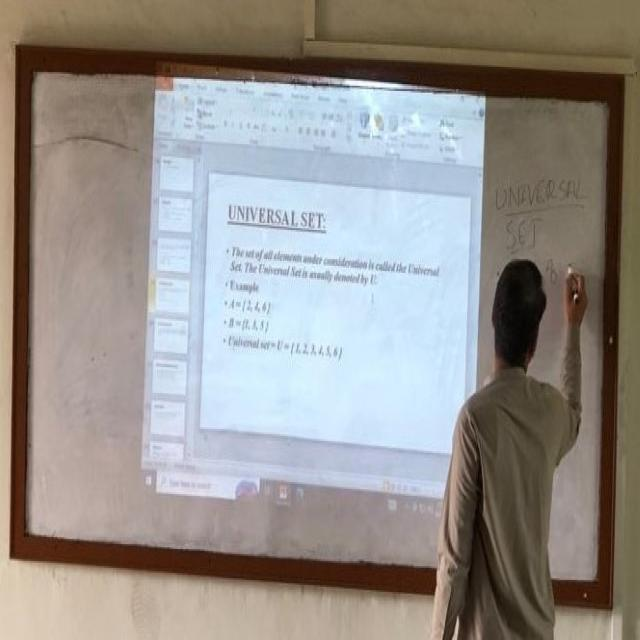Instructor: (452, 251, 578, 640)
Slide: (141, 62, 485, 530)
White-board: (16, 54, 616, 597)
